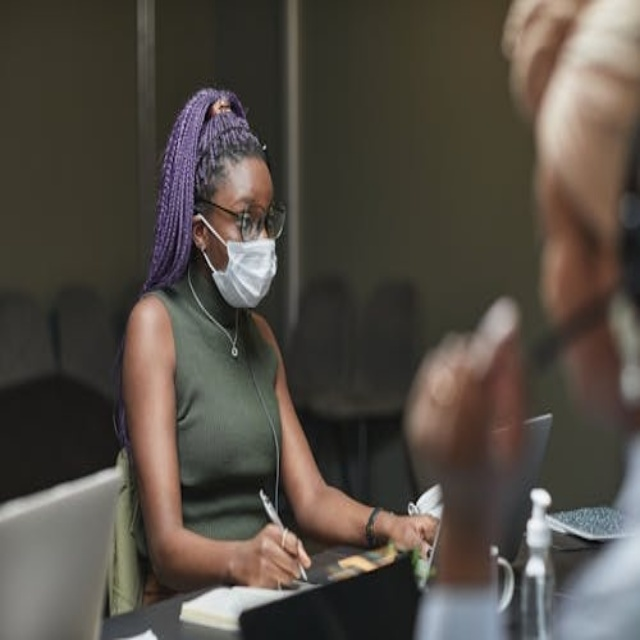Gafas: (196, 197, 287, 242)
Mascara: (200, 217, 277, 310)
Sin_guantes: (234, 521, 317, 594), (381, 504, 442, 565)
